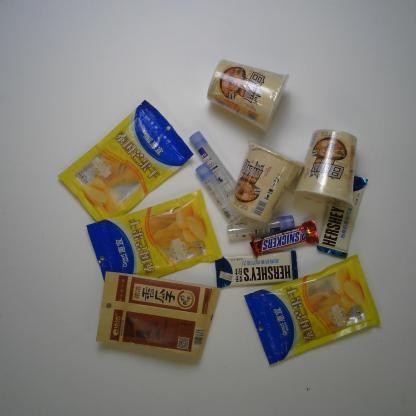Chocolate: (311, 169, 369, 262), (212, 247, 302, 291), (246, 218, 322, 262)
Dried Food: (92, 268, 226, 366)
Dried Fruit: (54, 95, 196, 225), (242, 250, 380, 367), (84, 189, 225, 299)
Instant Noodles: (227, 138, 306, 224), (205, 56, 290, 135), (286, 125, 362, 213)
Stationery: (193, 161, 244, 227), (187, 130, 237, 196), (223, 213, 298, 245)
